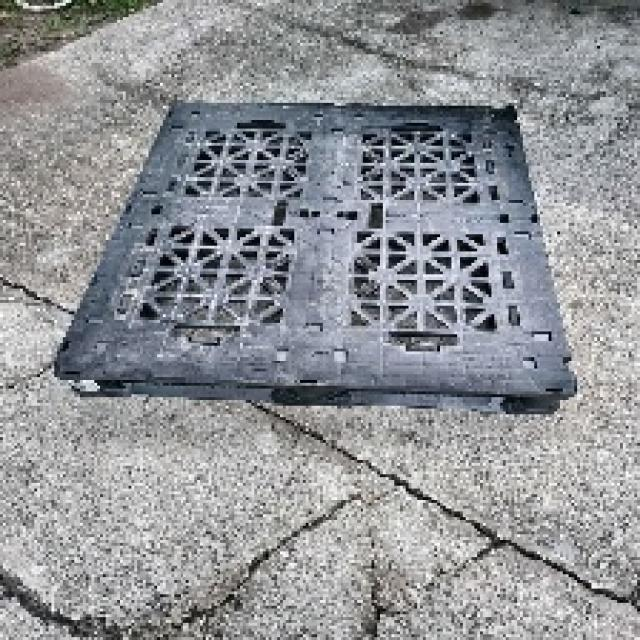igps: (48, 94, 586, 421)
